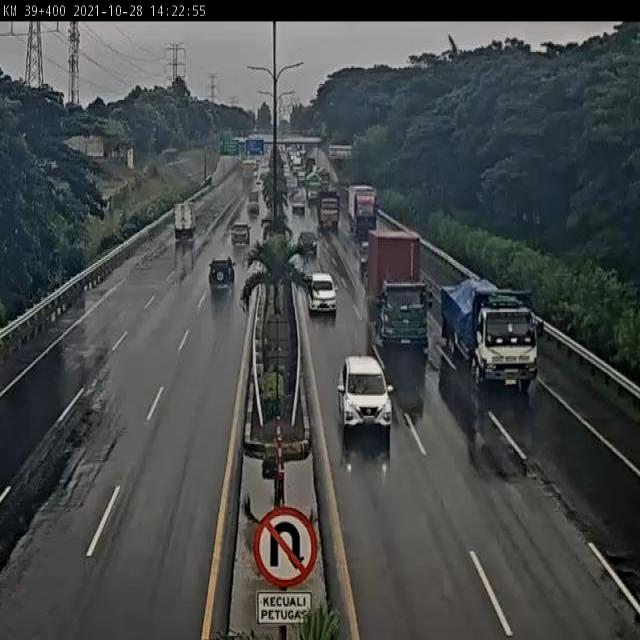Car: (334, 354, 394, 440), (307, 271, 339, 315), (206, 255, 237, 288), (298, 229, 320, 257), (230, 222, 252, 248), (252, 178, 266, 193)
Truck: (441, 275, 547, 397), (366, 226, 433, 351), (348, 184, 379, 237), (317, 190, 340, 233), (173, 200, 197, 240), (241, 158, 259, 183)
